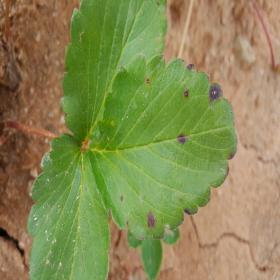Leaf Spot: (86, 53, 238, 240), (25, 132, 111, 279)
